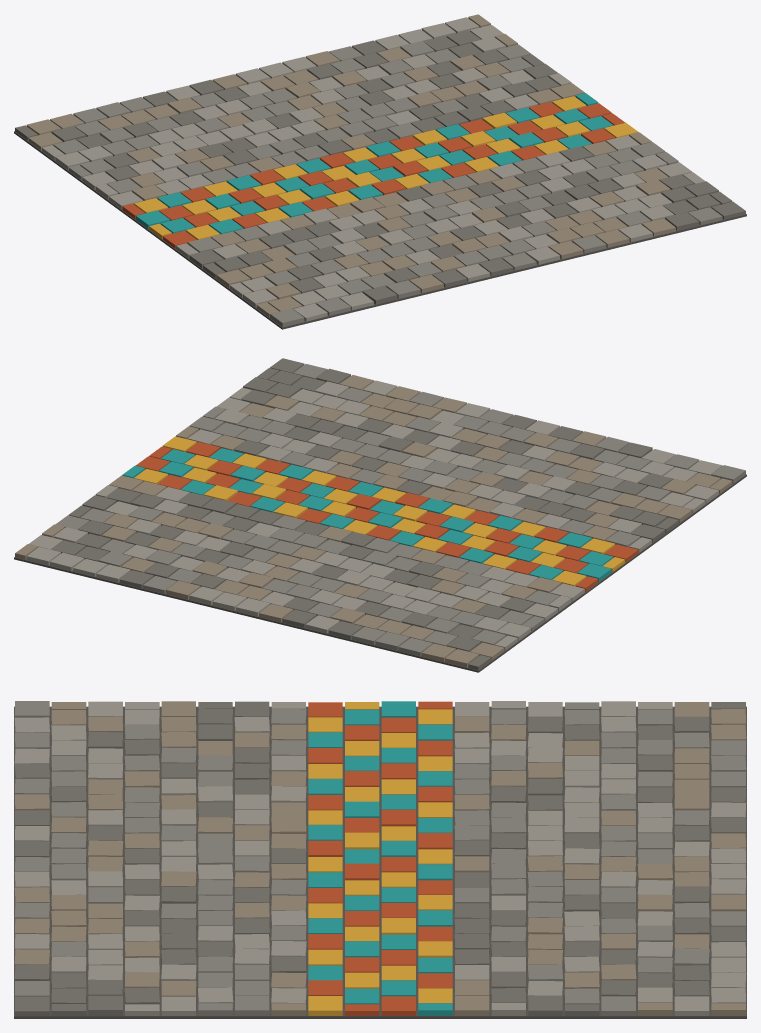
Rendered from suelo-calles-adoquin-calle-plaza.glb.
3 views of the same model, one above another, from view 1: azimuth 30°, elevation 25°; view 2: azimuth 150°, elevation 25°; view 3: azimuth 270°, elevation 25° (orthographic). The views are drawn at different scales.
Parts seen in each view (by area): view 1: calle_plaza_AdoquinGris3, calle_plaza_AdoquinGris1, calle_plaza_AdoquinCalido, calle_plaza_AdoquinGris2, calle_plaza_LadrilloTerracota, calle_plaza_LadrilloTurquesa, calle_plaza_LadrilloMostaza, calle_plaza_LosaCalle; view 2: calle_plaza_AdoquinGris3, calle_plaza_AdoquinGris1, calle_plaza_AdoquinCalido, calle_plaza_AdoquinGris2, calle_plaza_LadrilloTerracota, calle_plaza_LadrilloTurquesa, calle_plaza_LadrilloMostaza, calle_plaza_LosaCalle; view 3: calle_plaza_AdoquinGris3, calle_plaza_AdoquinGris1, calle_plaza_AdoquinCalido, calle_plaza_AdoquinGris2, calle_plaza_LosaCalle, calle_plaza_LadrilloTerracota, calle_plaza_LadrilloTurquesa, calle_plaza_LadrilloMostaza.
Boxes of the visible parts, x1,y1,x2,y2 form: calle_plaza_AdoquinGris3: (42,17,705,321); calle_plaza_AdoquinGris1: (53,41,722,327); calle_plaza_AdoquinCalido: (26,14,675,317); calle_plaza_AdoquinGris2: (15,30,745,304); calle_plaza_LadrilloTerracota: (122,102,625,248); calle_plaza_LadrilloTurquesa: (135,93,613,234); calle_plaza_LadrilloMostaza: (134,96,638,239); calle_plaza_LosaCalle: (14,131,746,329); calle_plaza_AdoquinGris3: (26,380,722,650); calle_plaza_AdoquinGris1: (55,364,745,656); calle_plaza_AdoquinCalido: (15,375,732,667); calle_plaza_AdoquinGris2: (52,358,678,670); calle_plaza_LadrilloTerracota: (136,442,638,591); calle_plaza_LadrilloTurquesa: (122,448,613,581); calle_plaza_LadrilloMostaza: (134,436,625,586); calle_plaza_LosaCalle: (14,474,746,672); calle_plaza_AdoquinGris3: (14,701,746,1015); calle_plaza_AdoquinGris1: (14,701,746,1015); calle_plaza_AdoquinCalido: (14,701,746,1015); calle_plaza_AdoquinGris2: (14,701,746,1015); calle_plaza_LosaCalle: (14,706,746,1018); calle_plaza_LadrilloTerracota: (308,701,452,1015); calle_plaza_LadrilloTurquesa: (308,701,452,1015); calle_plaza_LadrilloMostaza: (308,702,452,1015).
Size of the model in its own units: 8 by 0.103 by 8.
